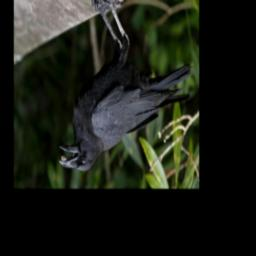Crow: (59, 0, 194, 172)
